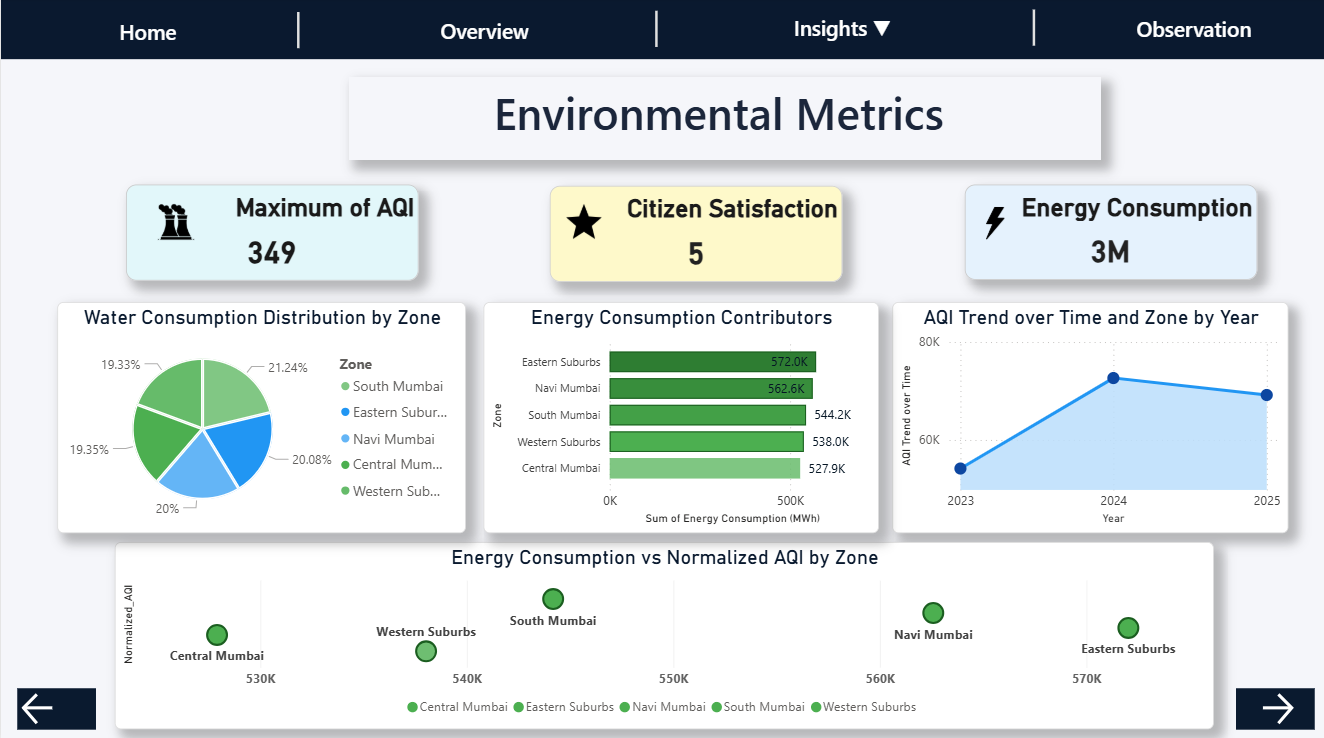

The dashboard page shown, as its layout file describes it:
{"tool":"powerbi","page":{"name":"Environmental Metrics","canvas":[1280,720],"ordinal":2},"visuals":[{"type":"textbox","box":[335.4,77.2,726.3,79.6],"z":0},{"type":"card","title":"Maximum of AQI","fields":{"Values":["Max(Sheet1.Air Quality Index)"]},"box":[120.6,181,282.3,92.9],"z":1000},{"type":"card","title":"Citizen Satisfaction","fields":{"Values":["Avg(Sheet1.Citizen Satisfaction)"]},"box":[529.6,182.2,282.3,92.9],"z":2000},{"type":"card","title":" Energy Consumption","fields":{"Values":["Sum(Sheet1.Energy Consumption (MWh))"]},"box":[930.2,181,282,92],"z":3000},{"type":"lineChart","fields":{"Y":["Sum(Sheet1.Air Quality Index)"],"Category":["Sheet1.Date.Variation.Date Hierarchy.Year"]},"box":[860.2,294.4,382.4,223.2],"z":4000},{"type":"scatterChart","title":"Energy Consumption vs Normalized AQI by Zone","fields":{"Y":["Sheet1.Normalized_AQI"],"Series":["Sheet1.Zone"],"X":["Sheet1.Energy Consumption (MWh)"]},"box":[109.8,526,1060.5,181],"z":5000},{"type":"pieChart","title":"Water Consumption Distribution by Zone","fields":{"Category":["Sheet1.Zone"],"Y":["Sum(Sheet1.Water Consumption Litres)"]},"box":[54.3,294.4,394.5,223.2],"z":6000},{"type":"shape","box":[0,0,1280,60.3],"z":7000},{"type":"image","box":[120.6,194.2,96.5,45.8],"z":8000},{"type":"image","box":[493.4,194.2,138.7,44.6],"z":9000},{"type":"image","box":[909.7,197.9,100.1,41],"z":10000},{"type":"clusteredBarChart","title":"Energy Consumption Contributors","fields":{"Category":["Sheet1.Zone"],"Y":["Sum(Sheet1.Energy Consumption (MWh))"]},"box":[465.7,294.4,381.2,223.2],"z":11000},{"type":"shape","box":[847,12,300,34.9],"z":12000},{"type":"actionButton","title":"Dashboard ▼","box":[741,9.6,142.2,39.8],"z":13000},{"type":"actionButton","box":[15.7,667.2,76,39.8],"z":14000},{"type":"actionButton","box":[1192,667.2,76,39.8],"z":15000},{"type":"actionButton","title":"Home","box":[91.6,13.3,100,39.8],"z":16000},{"type":"shape","box":[136.1,14.5,301.2,34.9],"z":17000},{"type":"actionButton","title":"Introduction","box":[402.4,12,127.7,39.8],"z":18000},{"type":"shape","box":[483.1,13.3,300,34.9],"z":19000},{"type":"actionButton","title":"Conclusion","box":[1090.4,10.8,121.7,39.8],"z":20000}]}

Visuals, with their boxes in screenshot pixels (x1, y1, x2, y2), scaled from the page's 1280x720 canvas onto the 1324x738 screenshot:
textbox: crop(347, 79, 1098, 161)
"Maximum of AQI" card: crop(125, 186, 417, 281)
"Citizen Satisfaction" card: crop(548, 187, 840, 282)
" Energy Consumption" card: crop(962, 186, 1254, 280)
lineChart - Sum(Sheet1.Air Quality Index) x Sheet1.Date.Variation.Date Hierarchy.Year: crop(890, 302, 1285, 531)
"Energy Consumption vs Normalized AQI by Zone" scatterChart: crop(114, 539, 1211, 725)
"Water Consumption Distribution by Zone" pieChart: crop(56, 302, 464, 531)
shape: crop(0, 0, 1323, 62)
image: crop(125, 199, 225, 246)
image: crop(510, 199, 654, 245)
image: crop(941, 203, 1045, 245)
"Energy Consumption Contributors" clusteredBarChart: crop(482, 302, 876, 531)
shape: crop(876, 12, 1186, 48)
"Dashboard ▼" actionButton: crop(766, 10, 914, 51)
actionButton: crop(16, 684, 95, 725)
actionButton: crop(1233, 684, 1312, 725)
"Home" actionButton: crop(95, 14, 198, 54)
shape: crop(141, 15, 452, 51)
"Introduction" actionButton: crop(416, 12, 548, 53)
shape: crop(500, 14, 810, 49)
"Conclusion" actionButton: crop(1128, 11, 1254, 52)
